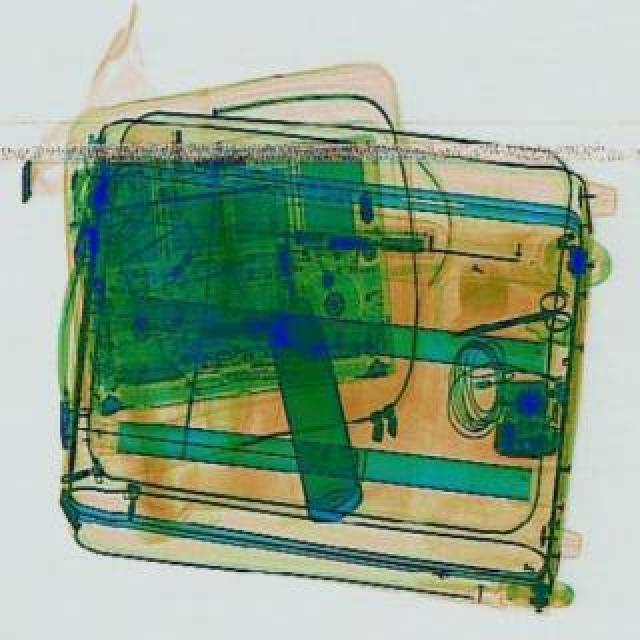pliers: (448, 284, 576, 352)
